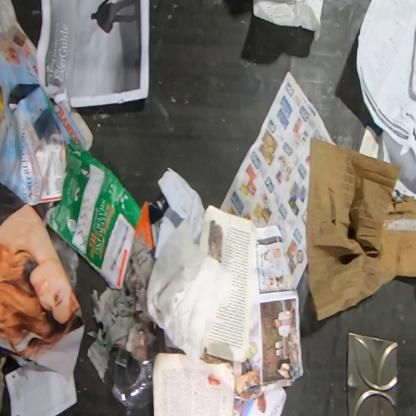cardboard: (305, 135, 415, 323), (45, 136, 143, 289), (130, 196, 170, 257)
metal: (346, 331, 398, 416)
rigid_plastic: (110, 332, 158, 410)
